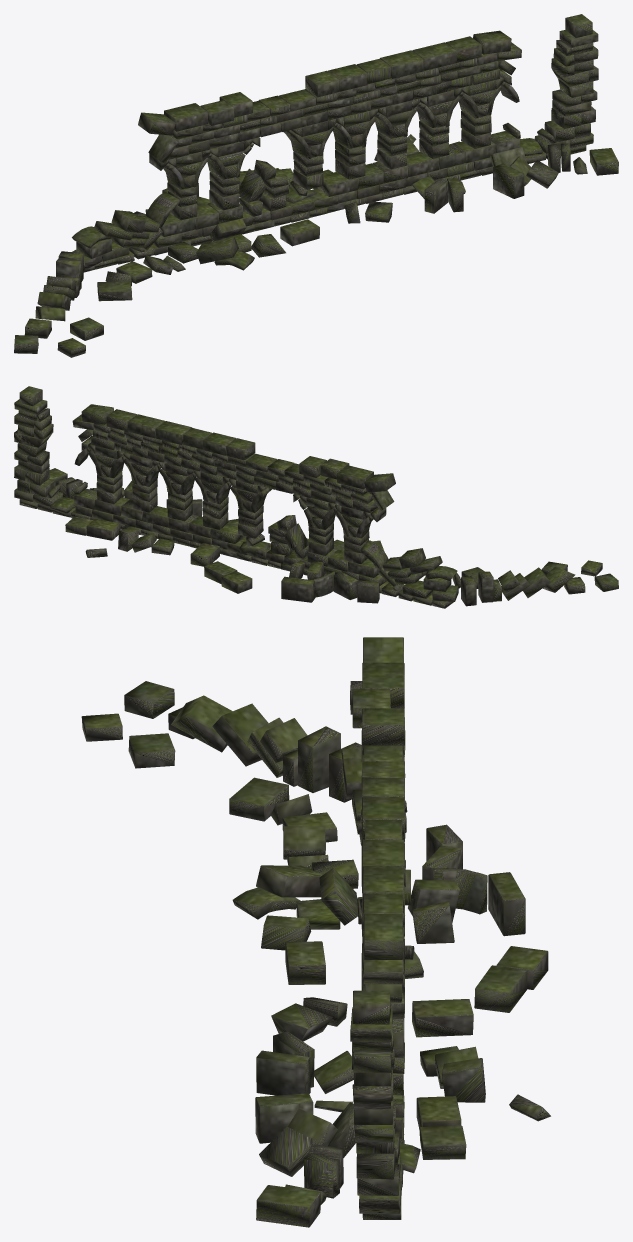
Rendered from abbey-ruins.lod0.glb.
3 renders of one model, top to bottom at view 1: azimuth 30°, elevation 25°; view 2: azimuth 150°, elevation 25°; view 3: azimuth 270°, elevation 25°, orthographic. The views are drawn at different scales.
Visible parts, largest first — view 1: abbey_wall_Baked_abbey_wall_Bake1_baked_0; view 2: abbey_wall_Baked_abbey_wall_Bake1_baked_0; view 3: abbey_wall_Baked_abbey_wall_Bake1_baked_0.
Boxes of the visible parts, left/top/right/bottom form: abbey_wall_Baked_abbey_wall_Bake1_baked_0: left=14, top=14, right=618, bottom=357; abbey_wall_Baked_abbey_wall_Bake1_baked_0: left=14, top=386, right=618, bottom=608; abbey_wall_Baked_abbey_wall_Bake1_baked_0: left=81, top=637, right=550, bottom=1227.
Bounding box in the file's own units: 43.96 × 8.88 × 16.44.
1 material, 1 textured.
